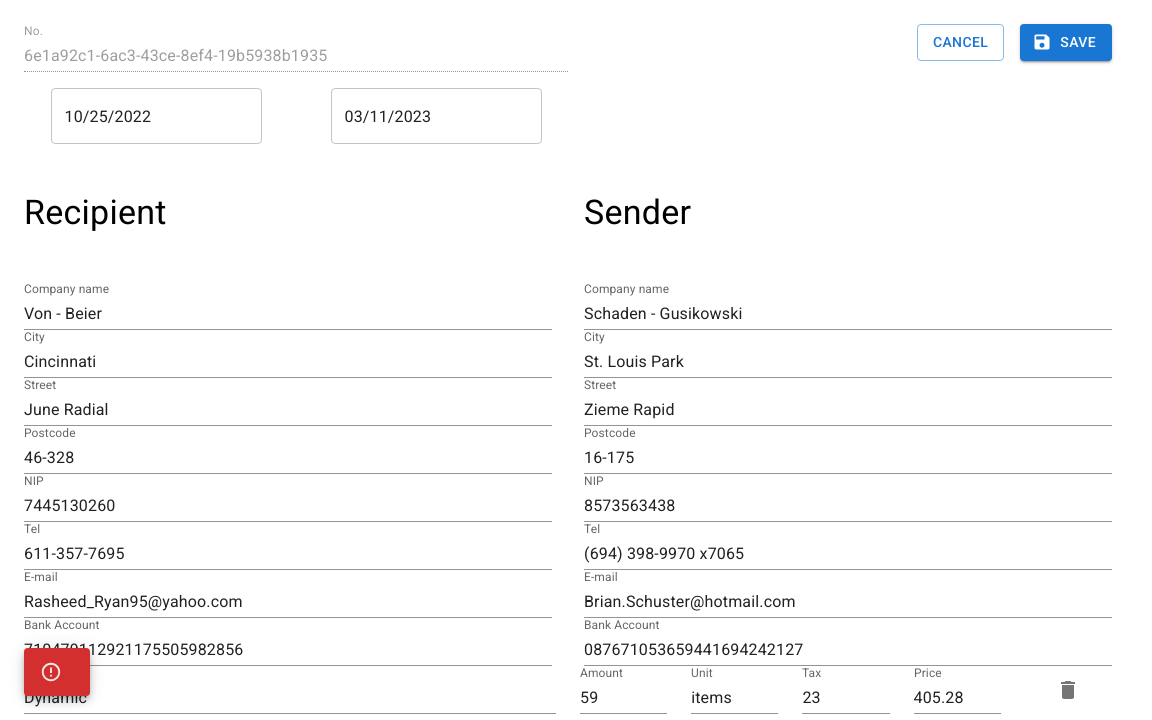
it: Edit Invoice › should saved changed values
Type " changed" into the field labelled "Company name" at (288, 314), box [24,298,552,330]
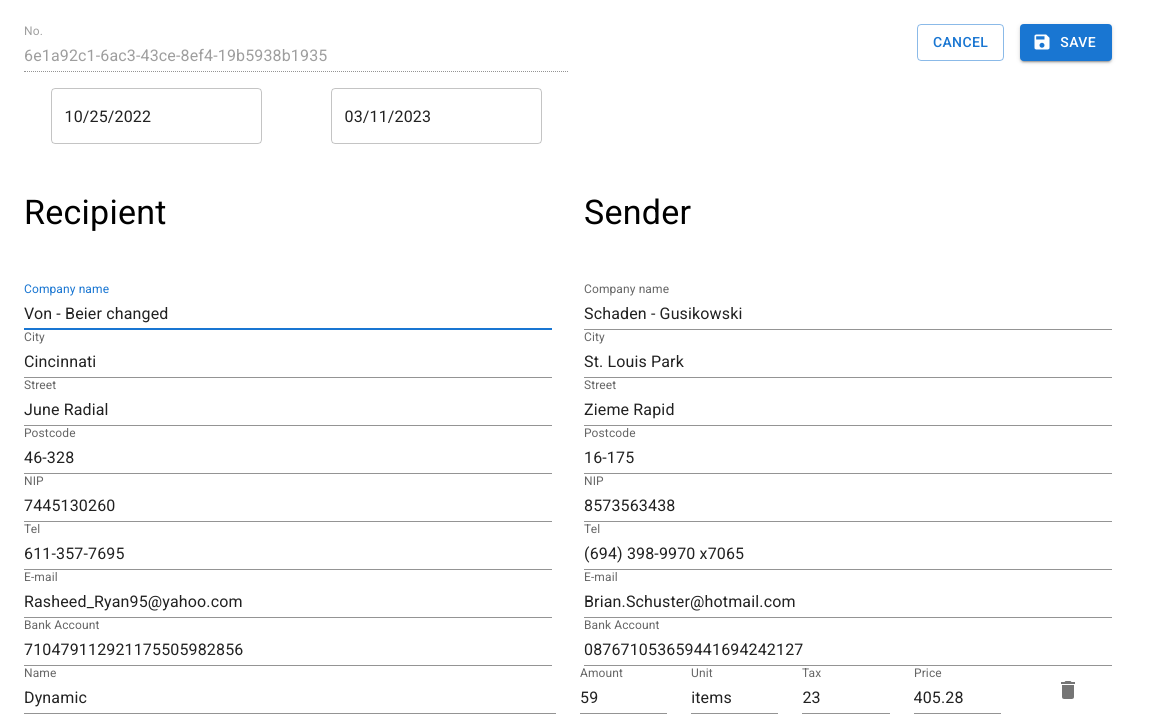
Click the button "Save" at (1066, 42), box [1020,24,1112,60]
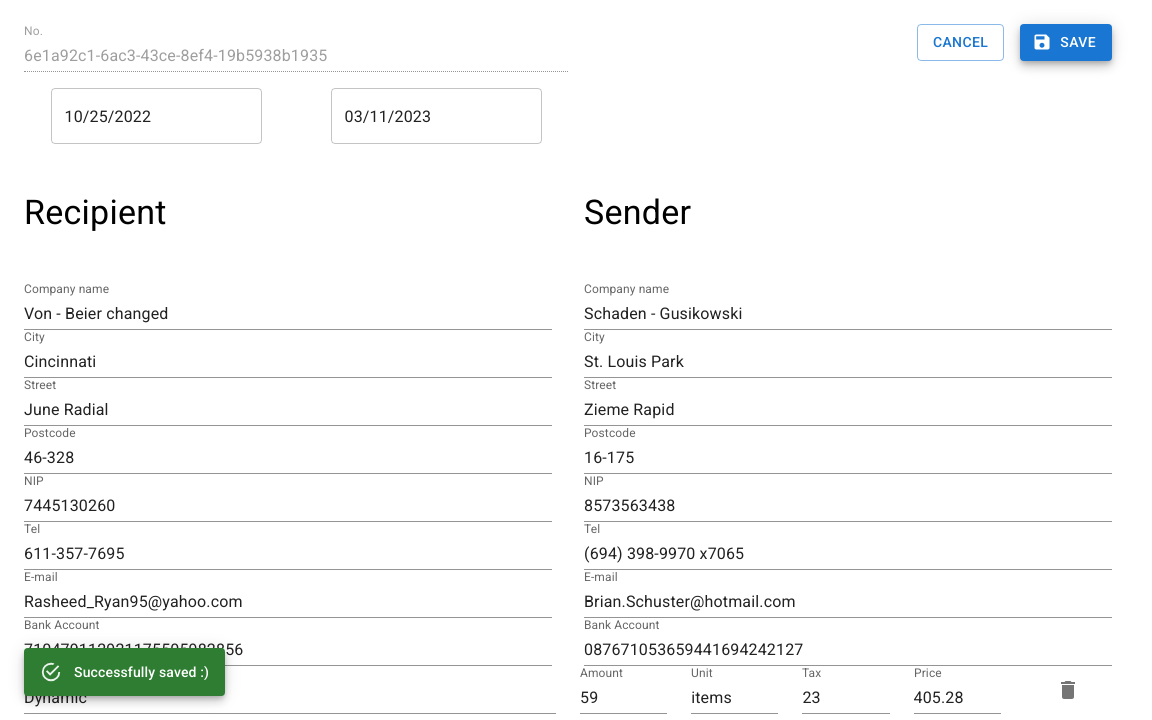
Check: the field labelled "Company name" holds "Von - Beier changed", box [24,298,552,330]
Check: the text "Successfully saved :)" is shown, box [74,664,209,680]
